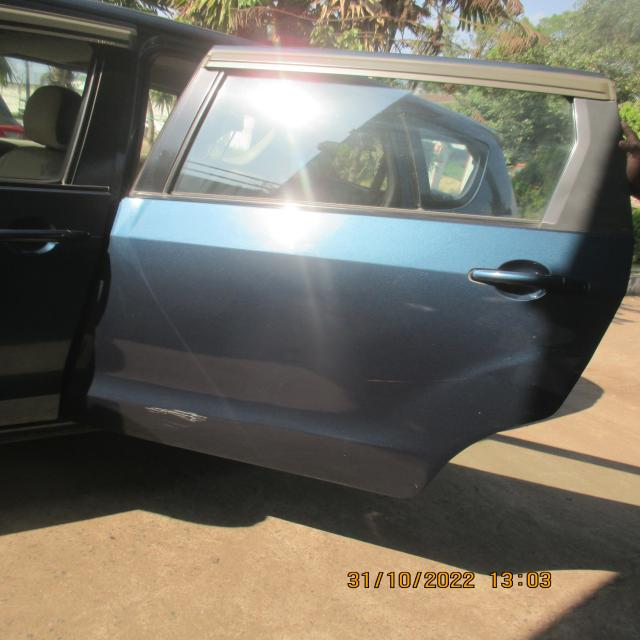damage: (360, 369, 464, 391), (140, 402, 210, 431), (400, 298, 436, 315)
